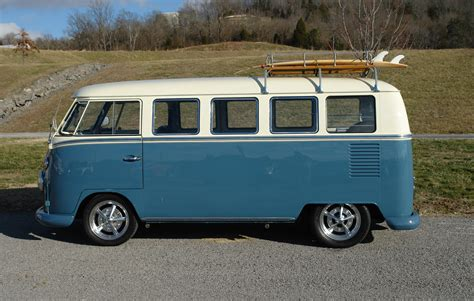bus: (41, 74, 418, 241)
